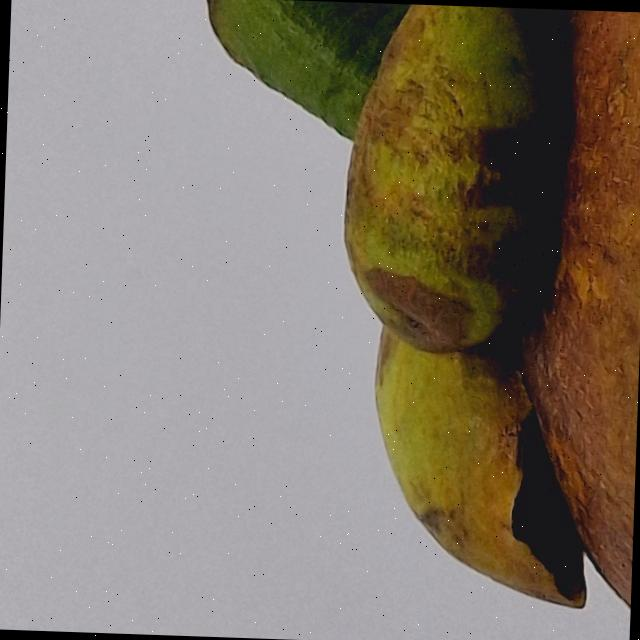mangosteen: (139, 0, 640, 640)
